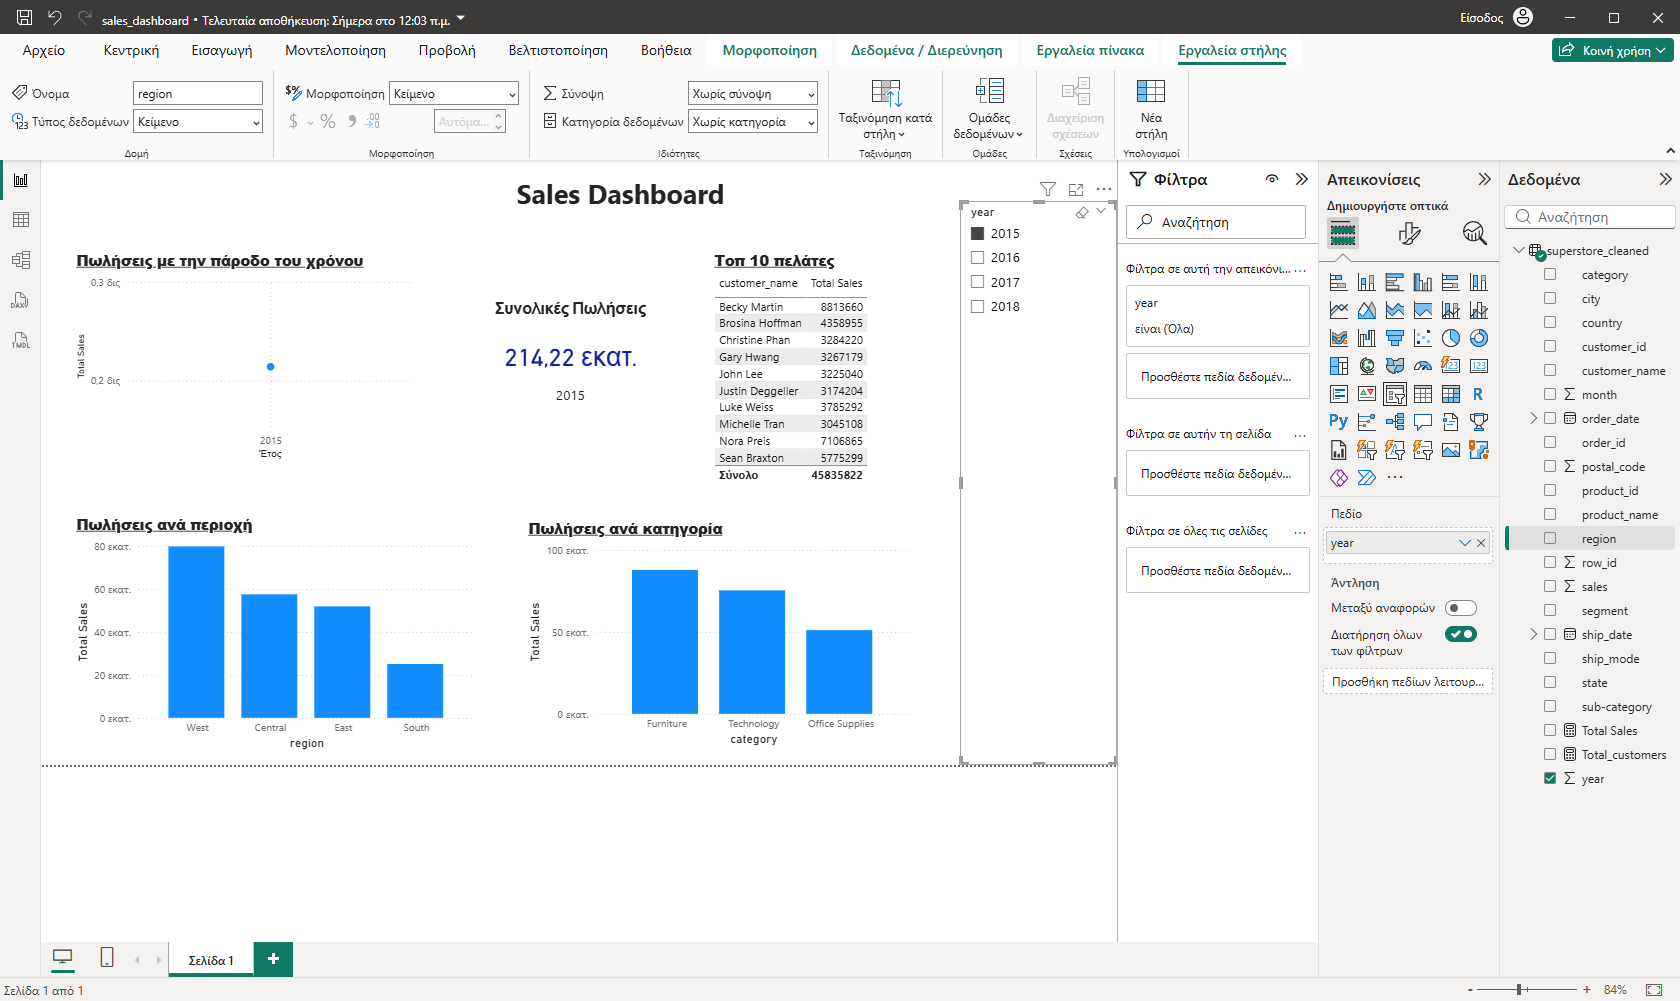

What the dashboard file says about the page in this screenshot:
{"tool":"powerbi","page":{"name":"Σελίδα 1","canvas":[1280,720],"ordinal":0},"visuals":[{"type":"lineChart","title":"Πωλήσεις με την πάροδο του χρόνου","fields":{"Category":["superstore_cleaned.order_date.Παραλλαγή.Ιεραρχία ημερομηνιών.Έτος","superstore_cleaned.order_date.Παραλλαγή.Ιεραρχία ημερομηνιών.Τρίμηνο","superstore_cleaned.order_date.Παραλλαγή.Ιεραρχία ημερομηνιών.Μήνας","superstore_cleaned.order_date.Παραλλαγή.Ιεραρχία ημερομηνιών.Ημέρα"],"Y":["superstore_cleaned.Total Sales"]},"box":[36.9,107.1,410.4,253.4],"z":1000},{"type":"columnChart","title":"Πωλήσεις ανά κατηγορία","fields":{"Category":["superstore_cleaned.category"],"Y":["superstore_cleaned.Total Sales"]},"box":[574.6,425.9,465.1,276],"z":2000},{"type":"columnChart","title":"Πωλήσεις ανά περιοχή","fields":{"Category":["superstore_cleaned.region"],"Y":["superstore_cleaned.Total Sales"]},"box":[36.9,421.1,484.2,285.5],"z":3000},{"type":"tableEx","title":"Τοπ 10 πελάτες","fields":{"Values":["superstore_cleaned.customer_name","superstore_cleaned.Total Sales"]},"box":[795.8,107.1,226,310.5],"z":4000},{"type":"kpi","title":"Συνολικές Πωλήσεις","fields":{"Indicator":["superstore_cleaned.Total Sales"],"Goal":["Sum(superstore_cleaned.year)","Sum(superstore_cleaned.month)"],"TrendLine":["superstore_cleaned.year"]},"box":[484.2,166.5,291.4,134.4],"z":5000},{"type":"textbox","box":[484.2,11.9,410.4,72.6],"z":6000},{"type":"slicer","fields":{"Values":["superstore_cleaned.year"]},"box":[1093.2,48.8,186.8,670.9],"z":6001}]}

Visuals, with their boxes on the page's 1280x720 design canvas (x1, y1, x2, y2). These are canvas units, not pixel positions in the 1680x1001 screenshot, which may show the page scaled, cropped or inside an application window:
"Πωλήσεις με την πάροδο του χρόνου" lineChart: crop(37, 107, 447, 360)
"Πωλήσεις ανά κατηγορία" columnChart: crop(575, 426, 1040, 702)
"Πωλήσεις ανά περιοχή" columnChart: crop(37, 421, 521, 707)
"Τοπ 10 πελάτες" tableEx: crop(796, 107, 1022, 418)
"Συνολικές Πωλήσεις" kpi: crop(484, 166, 776, 301)
textbox: crop(484, 12, 895, 84)
slicer - superstore_cleaned.year: crop(1093, 49, 1280, 720)
